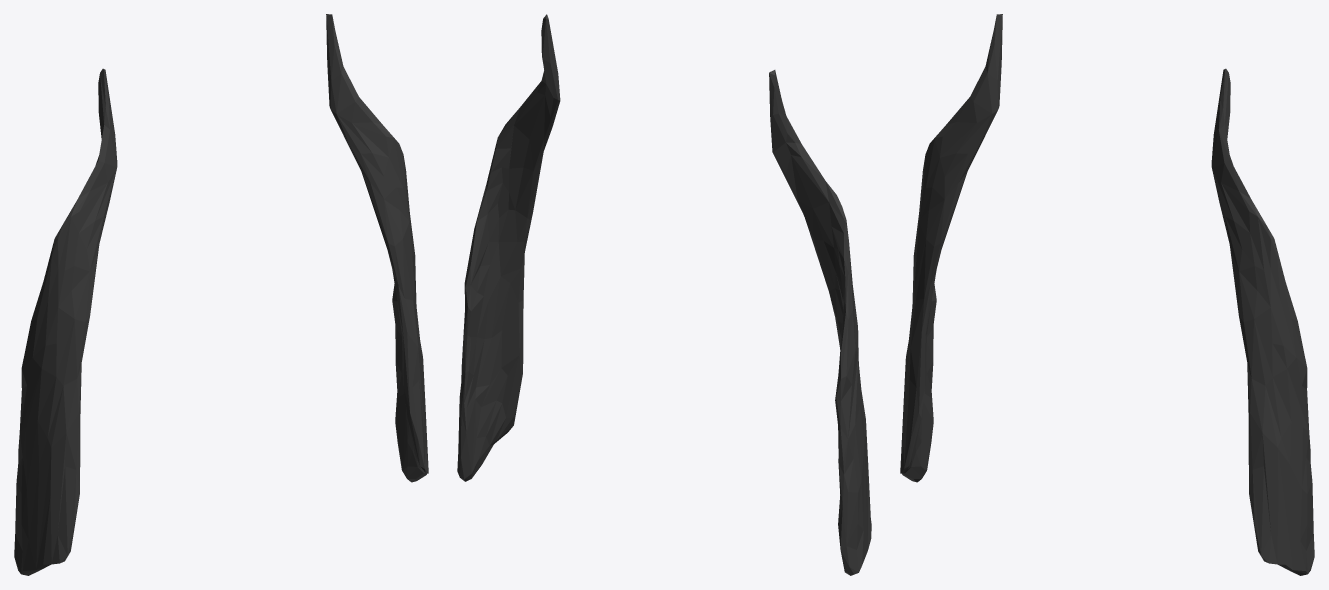
The model's file is m_abductor_digiti_I_pollicis_longus.glb.
3 renders of one model, left to right at view 1: azimuth 30°, elevation 25°; view 2: azimuth 150°, elevation 25°; view 3: azimuth 330°, elevation 25°, orthographic.
Visible parts, largest first — view 1: m_abductor_digiti_I_pollicis_longus; view 2: m_abductor_digiti_I_pollicis_longus; view 3: m_abductor_digiti_I_pollicis_longus.
Boxes of the visible parts, left/top/right/bottom form: m_abductor_digiti_I_pollicis_longus: left=14, top=14, right=428, bottom=575; m_abductor_digiti_I_pollicis_longus: left=457, top=14, right=871, bottom=575; m_abductor_digiti_I_pollicis_longus: left=900, top=14, right=1314, bottom=575.
Size of the model in its own units: 0.00399 by 0.00467 by 0.000674.
Materials: 1 (1 with a texture image).
